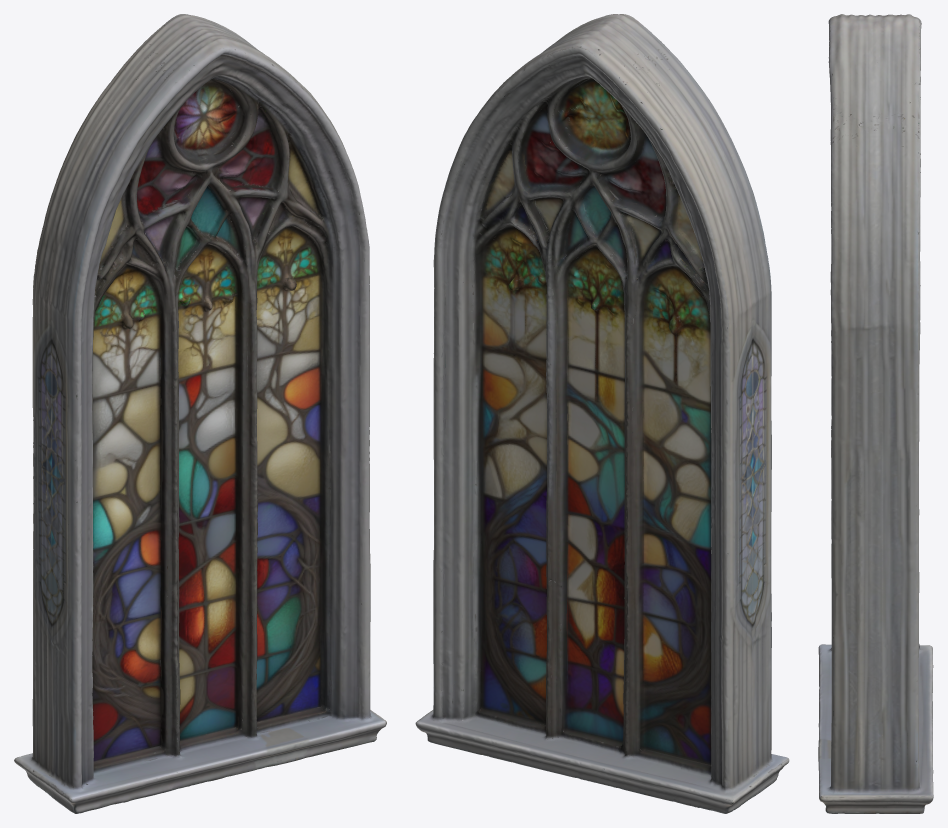
3 views of the same model, side by side, from view 1: azimuth 30°, elevation 25°; view 2: azimuth 150°, elevation 25°; view 3: azimuth 270°, elevation 25° (orthographic).
Parts seen in each view (by area): view 1: Mesh_0; view 2: Mesh_0; view 3: Mesh_0.
Boxes of the visible parts, x1,y1,x2,y2 form: Mesh_0: (14, 14, 386, 813); Mesh_0: (415, 14, 789, 813); Mesh_0: (818, 14, 933, 813).
Bounding box in the file's own units: 91.28 × 201 × 28.98.
1 material, 1 textured.
